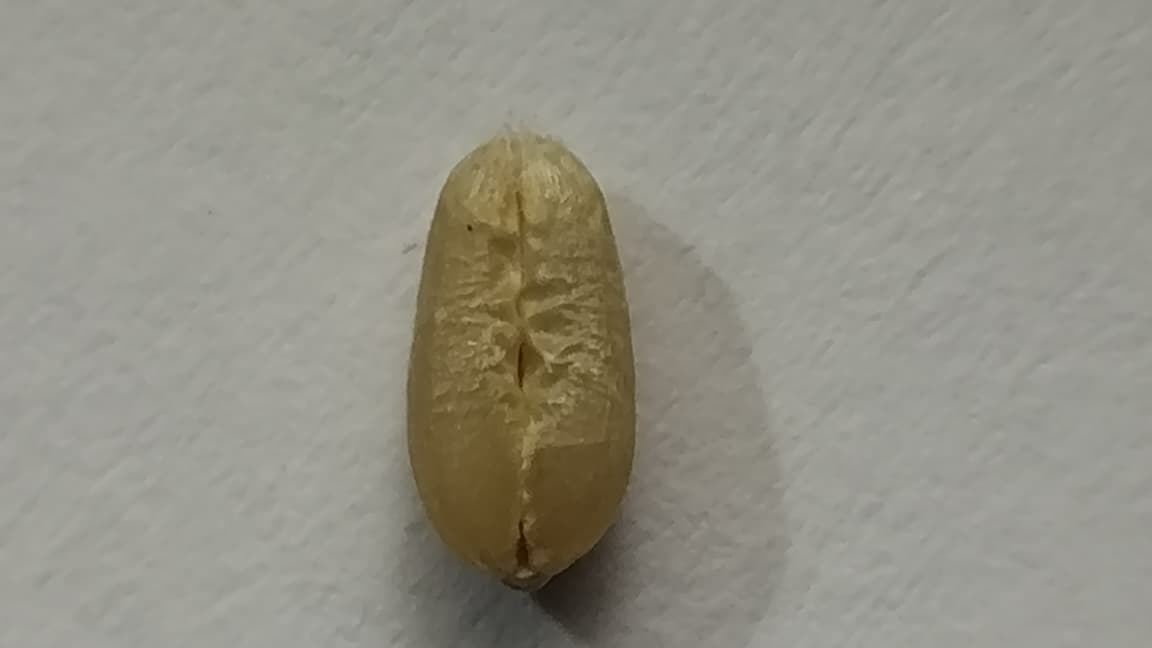healthy: (405, 116, 641, 592)
